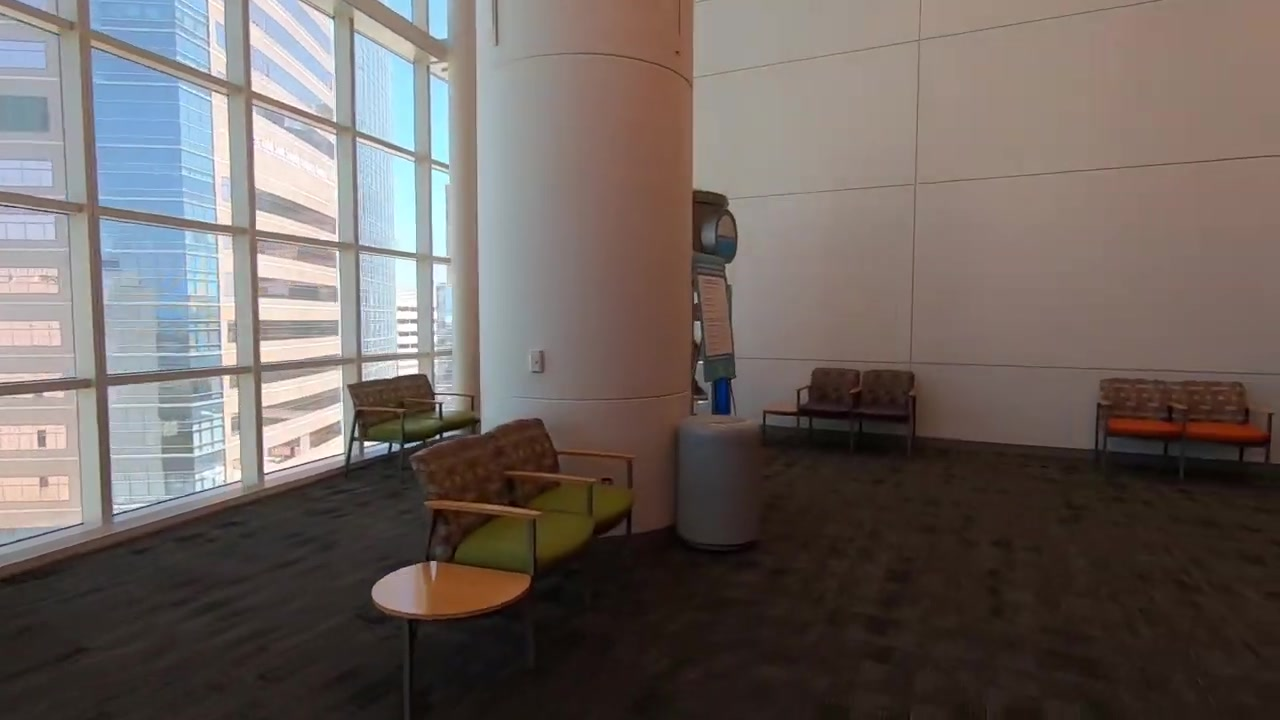chair: (405, 437, 593, 641), (489, 417, 635, 561), (1177, 375, 1280, 482), (341, 379, 440, 480), (1097, 376, 1188, 483), (852, 368, 920, 457), (796, 367, 858, 449), (396, 373, 475, 432)
light_switch: (527, 345, 547, 379)
table: (370, 559, 538, 720), (760, 402, 807, 446)
waste_bin: (672, 411, 767, 552)
